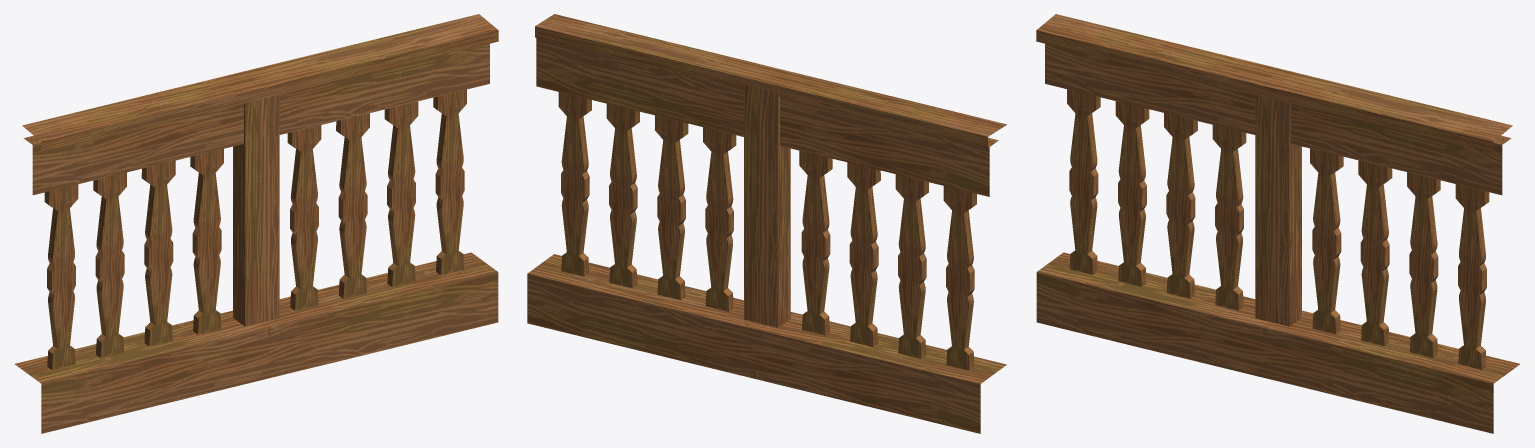
File: balcony-simple-straight.glb
3 views of the same model, side by side, from view 1: azimuth 30°, elevation 25°; view 2: azimuth 150°, elevation 25°; view 3: azimuth 330°, elevation 25° (orthographic).
Parts seen in each view (by area): view 1: Balcony_Simple_Straight; view 2: Balcony_Simple_Straight; view 3: Balcony_Simple_Straight.
Boxes of the visible parts, box(x1,y1,x2,y2) form: Balcony_Simple_Straight: box(15, 14, 498, 433); Balcony_Simple_Straight: box(527, 14, 1006, 433); Balcony_Simple_Straight: box(1036, 14, 1519, 433).
Size of the model in its own units: 2 by 1.23 by 0.2063.
Materials: 1 (1 with a texture image).
